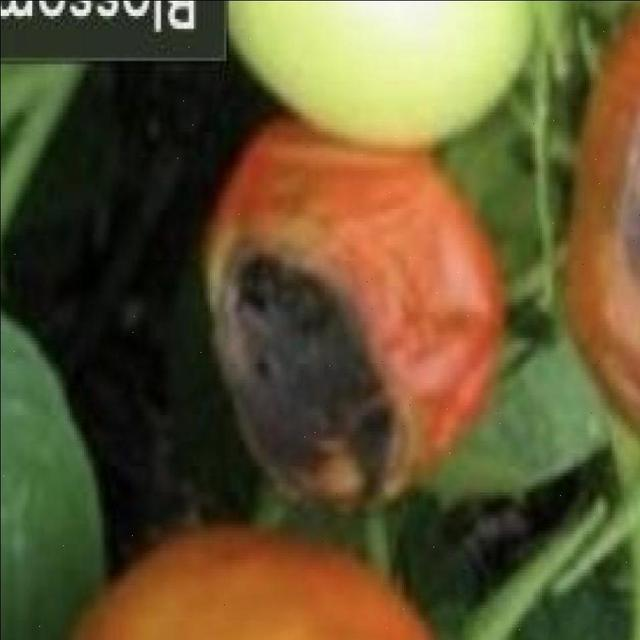Blossom End Rot Fruit: (16, 108, 419, 247)
